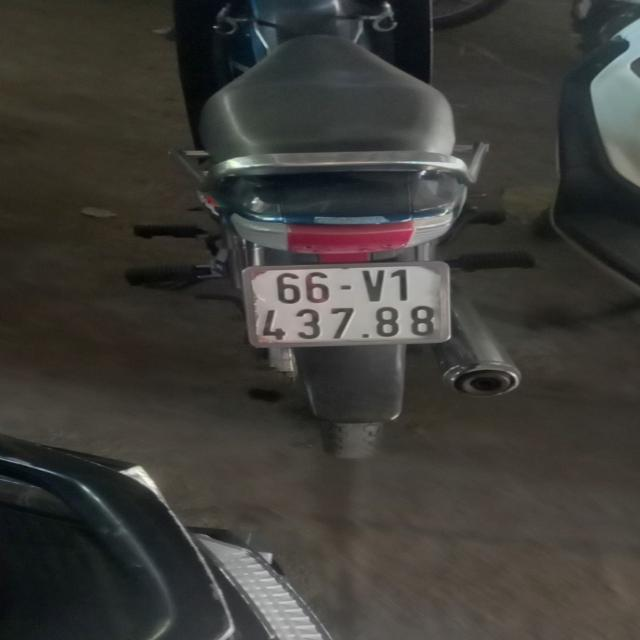1: (391, 270, 410, 302)
3: (296, 307, 322, 338)
4: (262, 311, 286, 340)
6: (302, 271, 331, 304), (275, 272, 301, 303)
7: (330, 308, 354, 342)
8: (374, 306, 400, 338), (411, 305, 437, 335)
V: (361, 268, 385, 302)
